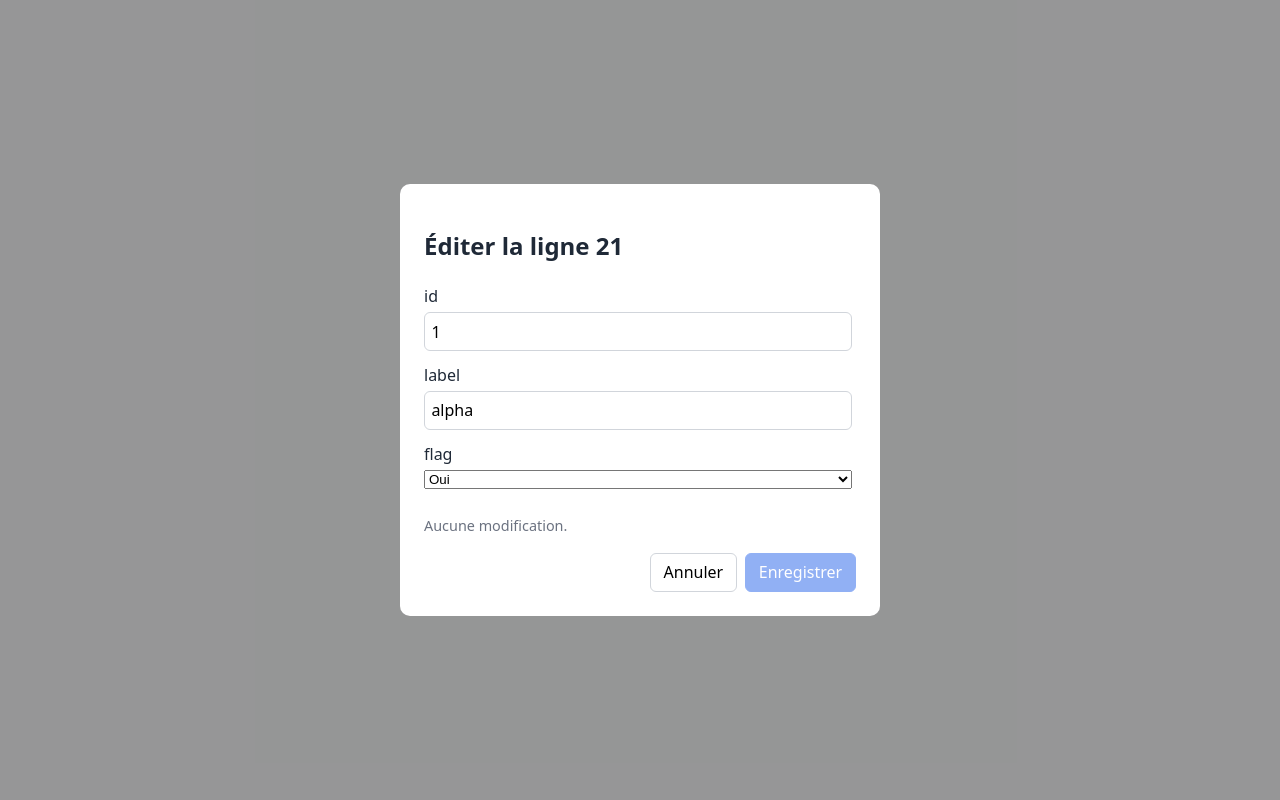
Test case: RowEditDialog › asks for confirmation, listing before and after, and sends nothing yet
Clear the field labelled "label" at (638, 410), box [424,391,852,430]
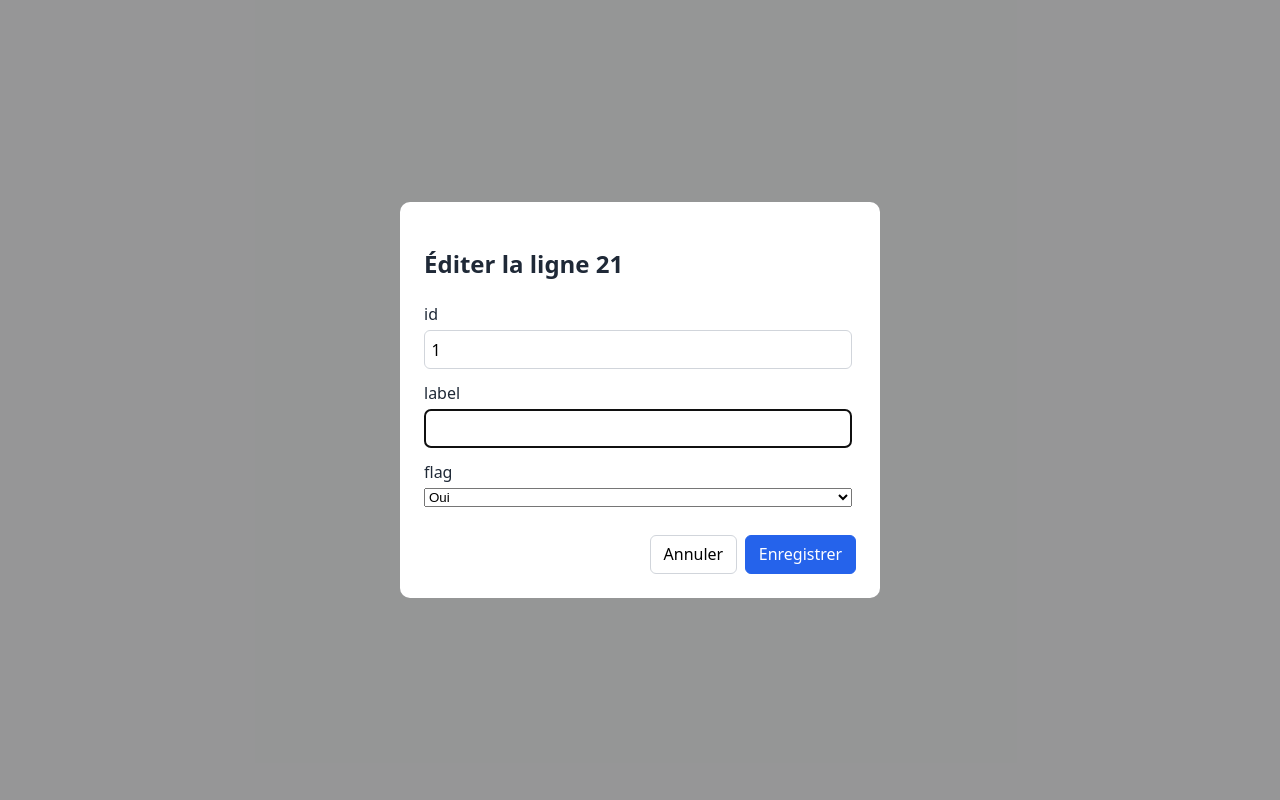
Type "beta" into the field labelled "label" at (638, 428), box [424,409,852,448]
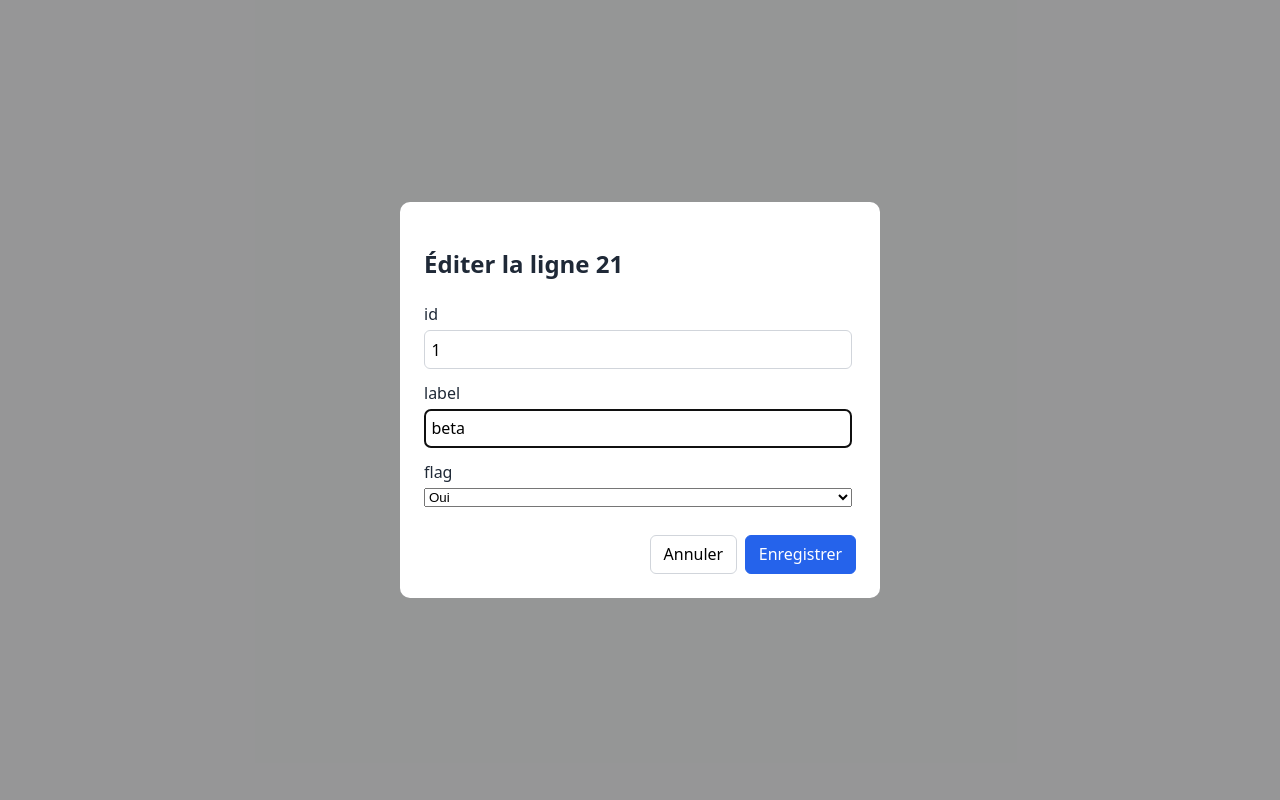
Click the button "Enregistrer" at (800, 554), box [745,535,856,574]
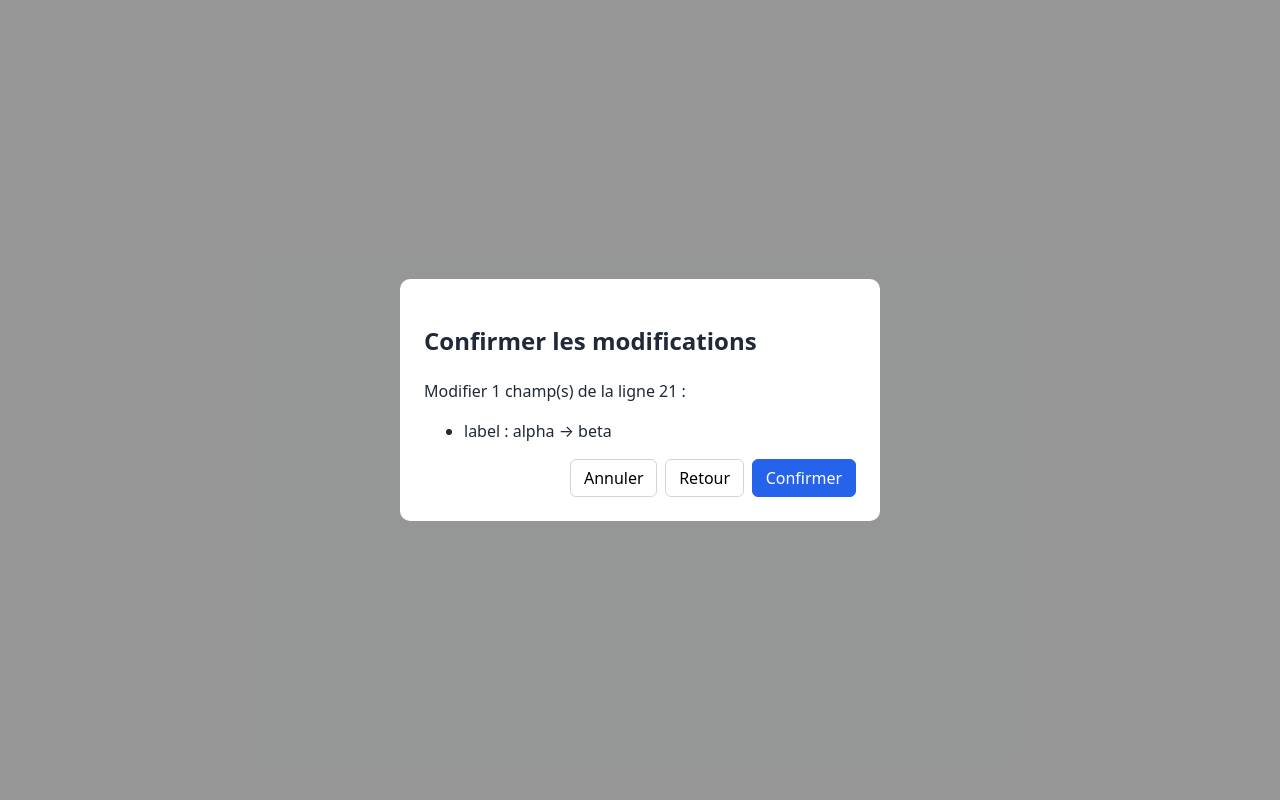
Expected: the heading "Confirmer les modifications" is shown, [424,324,757,357]
Expected: the list item "label : alpha → beta" is shown, [464,420,612,442]
